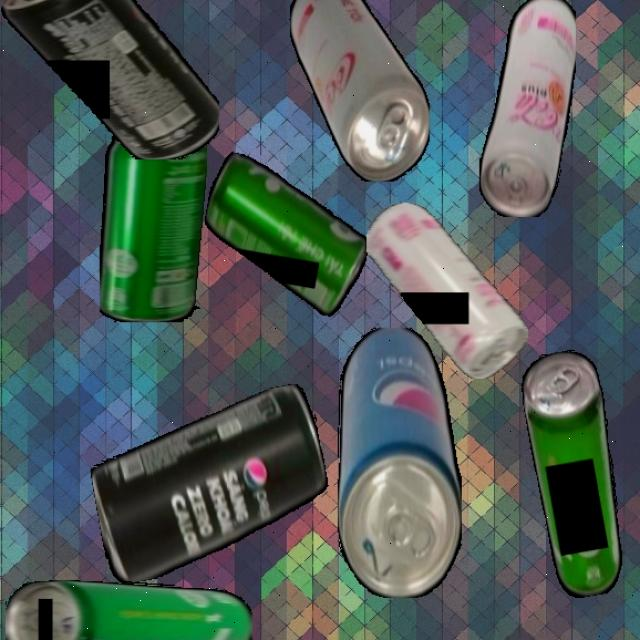debris: (82, 382, 339, 586), (0, 0, 219, 159), (336, 327, 462, 598), (192, 151, 380, 320), (516, 346, 637, 602), (367, 202, 528, 378), (289, 0, 430, 182), (478, 0, 576, 217), (100, 134, 207, 322), (6, 579, 252, 640)
